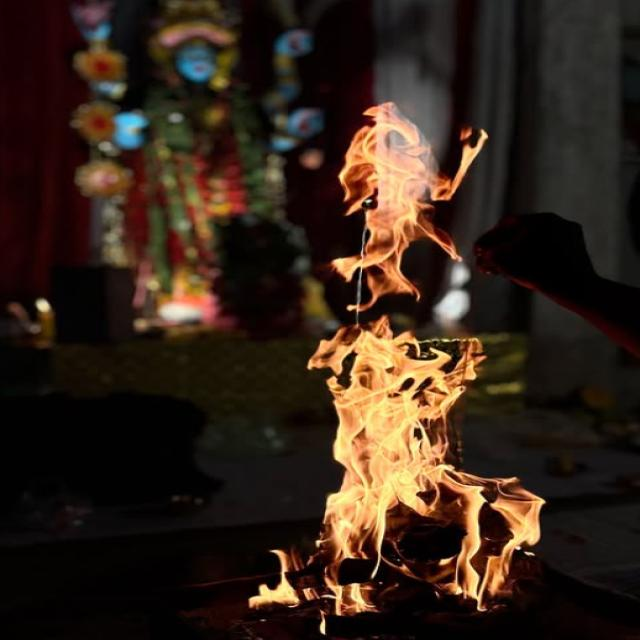fire: (249, 316, 545, 632), (333, 103, 487, 310)
